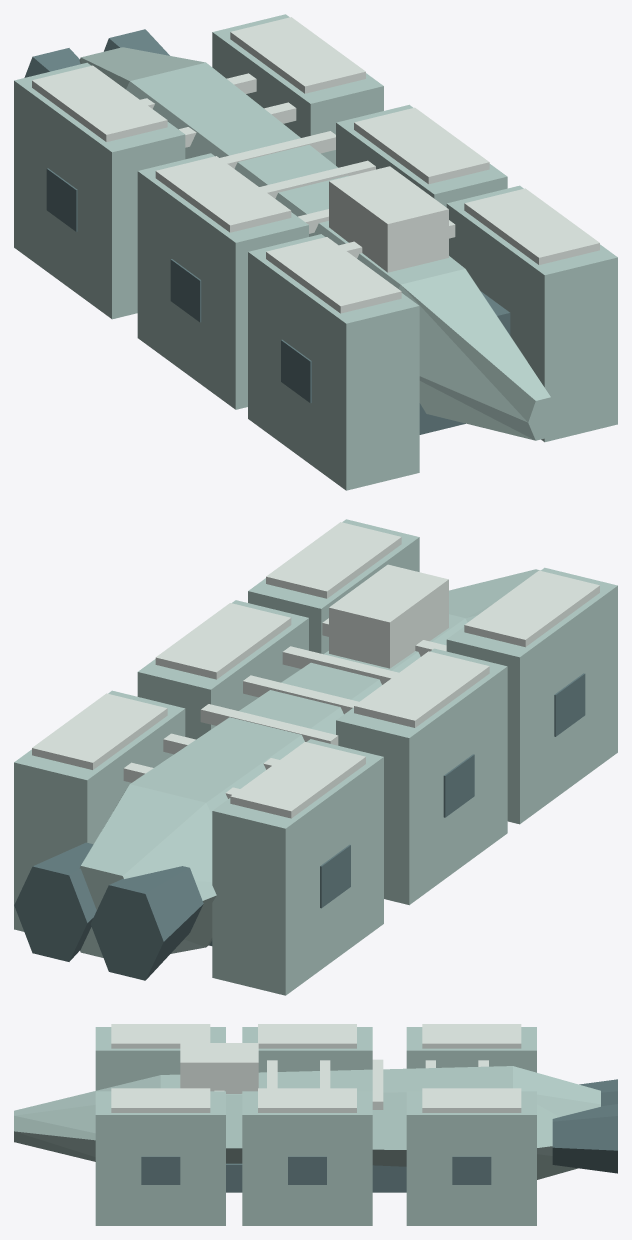
3 views of the same model, one above another, from view 1: azimuth 30°, elevation 25°; view 2: azimuth 150°, elevation 25°; view 3: azimuth 270°, elevation 25° (orthographic). The views are drawn at different scales.
Bounding box in the file's own units: 3.17 × 2.14 × 9.07.
